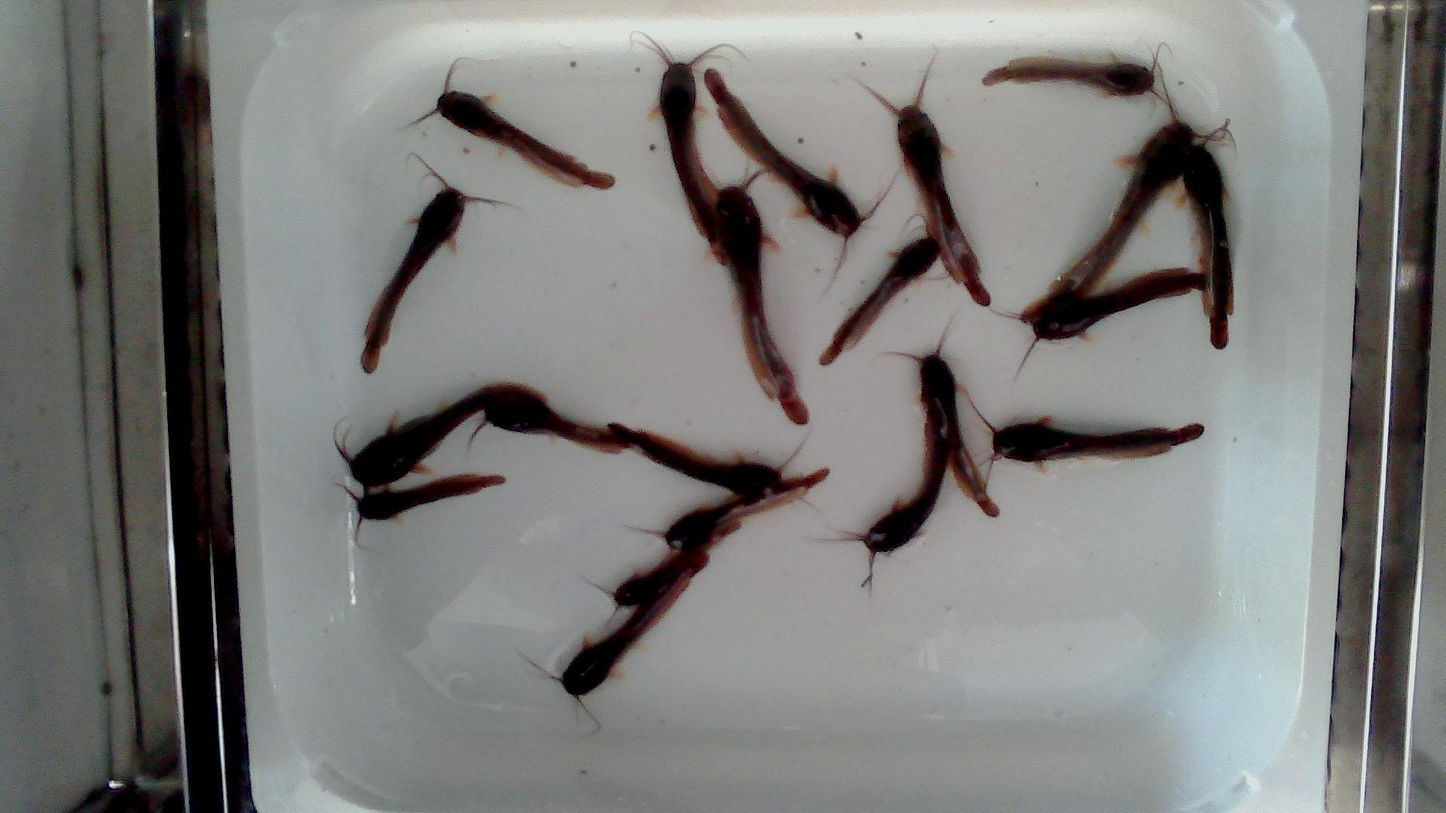lele: (1038, 82, 1208, 303), (360, 154, 505, 373), (863, 63, 990, 305), (704, 69, 874, 244), (529, 553, 713, 700), (710, 175, 808, 424), (412, 72, 614, 190), (329, 382, 553, 487), (814, 411, 946, 588), (890, 318, 1004, 519), (1018, 266, 1206, 374), (633, 32, 718, 247), (641, 470, 829, 557), (821, 237, 938, 364), (608, 422, 804, 493), (1176, 131, 1235, 349), (589, 543, 715, 625), (984, 419, 1203, 463), (341, 474, 505, 528), (472, 405, 635, 456), (983, 56, 1158, 96), (828, 172, 834, 178)
